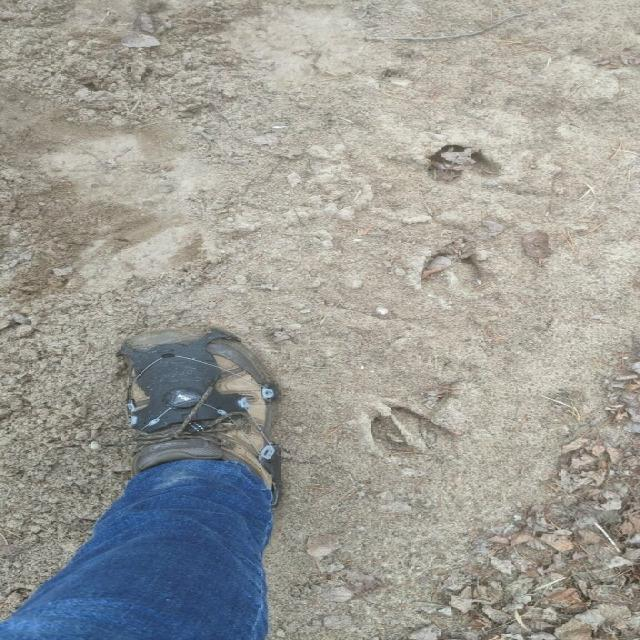deer: (364, 402, 460, 462), (429, 141, 504, 189), (422, 250, 491, 296)
